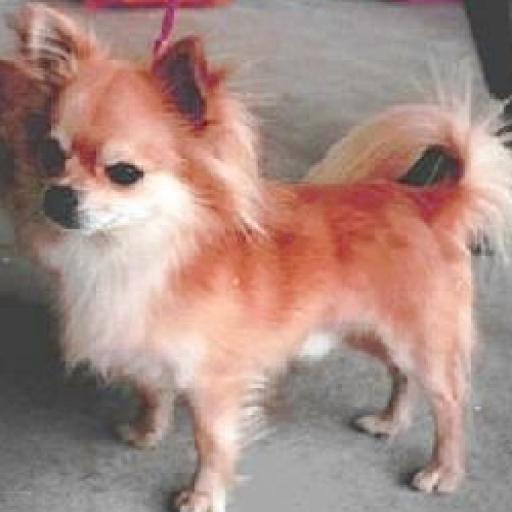dog_face: (0, 21, 223, 223)
